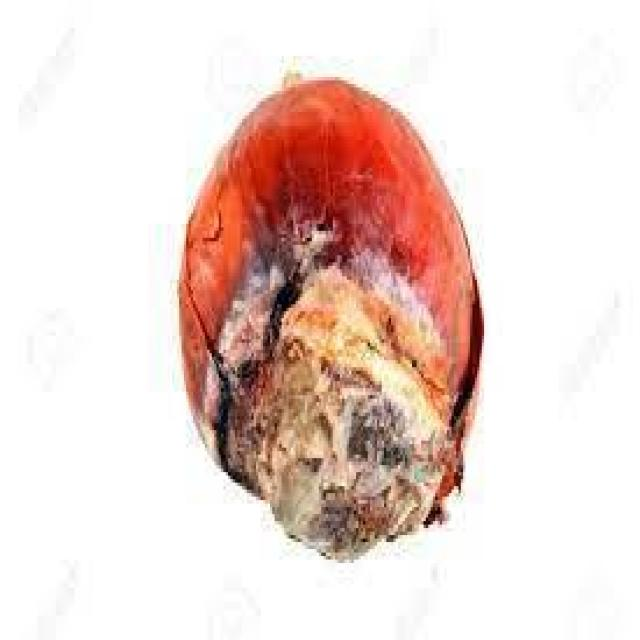Onion: (175, 69, 484, 562)
